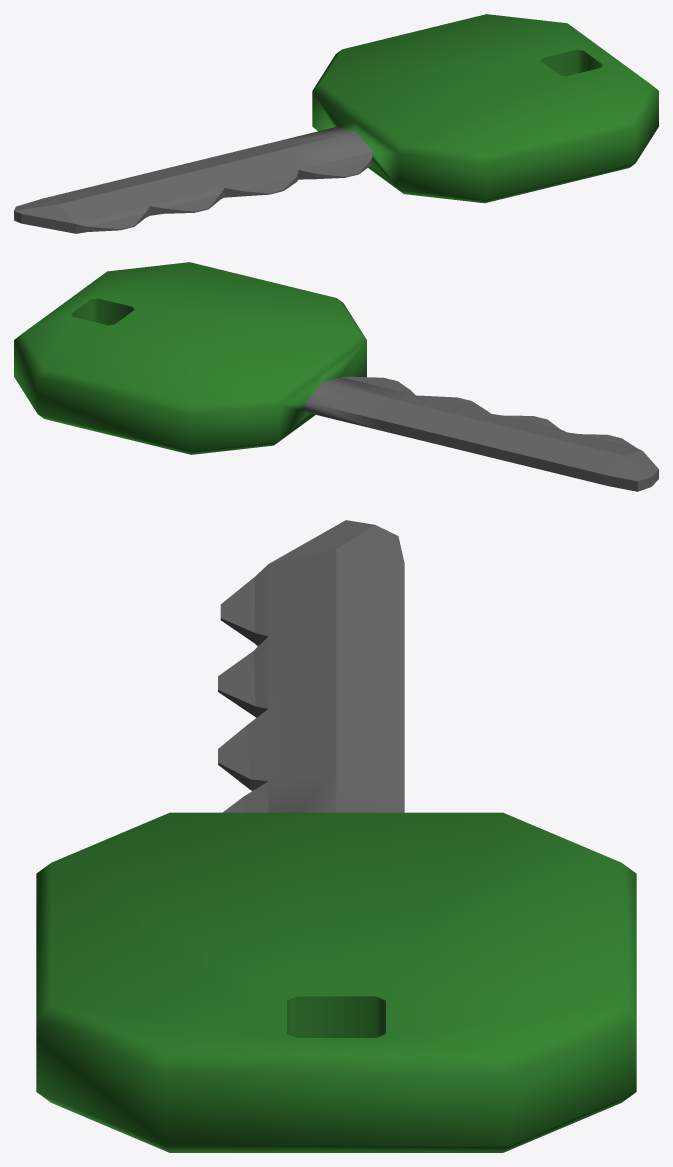
The model's file is keys.fbx.
3 renders of one model, top to bottom at view 1: azimuth 30°, elevation 25°; view 2: azimuth 150°, elevation 25°; view 3: azimuth 270°, elevation 25°, orthographic. The views are drawn at different scales.
Visible parts, largest first — view 1: Cube.001; view 2: Cube.001; view 3: Cube.001.
Part boxes in pixels (bbox=[...]): Cube.001: bbox=[14, 14, 658, 233]; Cube.001: bbox=[14, 262, 658, 491]; Cube.001: bbox=[36, 520, 636, 1152].
Size of the model in its own units: 200 by 455 by 36.42.
